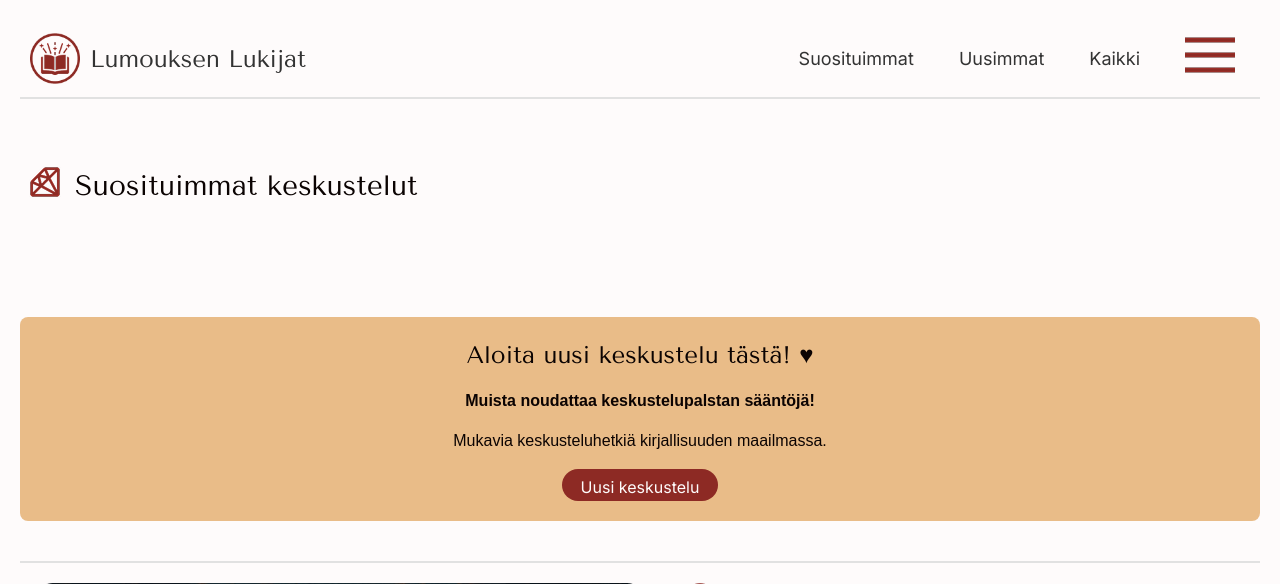
Homepage-komponentti › näyttää "Meistä" hampurilaisvalikossa, kun valikko avataan
Käytetään alt-tekstiä hampurilaisikonin löytämiseen
What coordinates should you click on to do the following:
click the picture with alt text "valikko"
I would click on:
 (1210, 55)
Its box is [1185,30,1235,80].
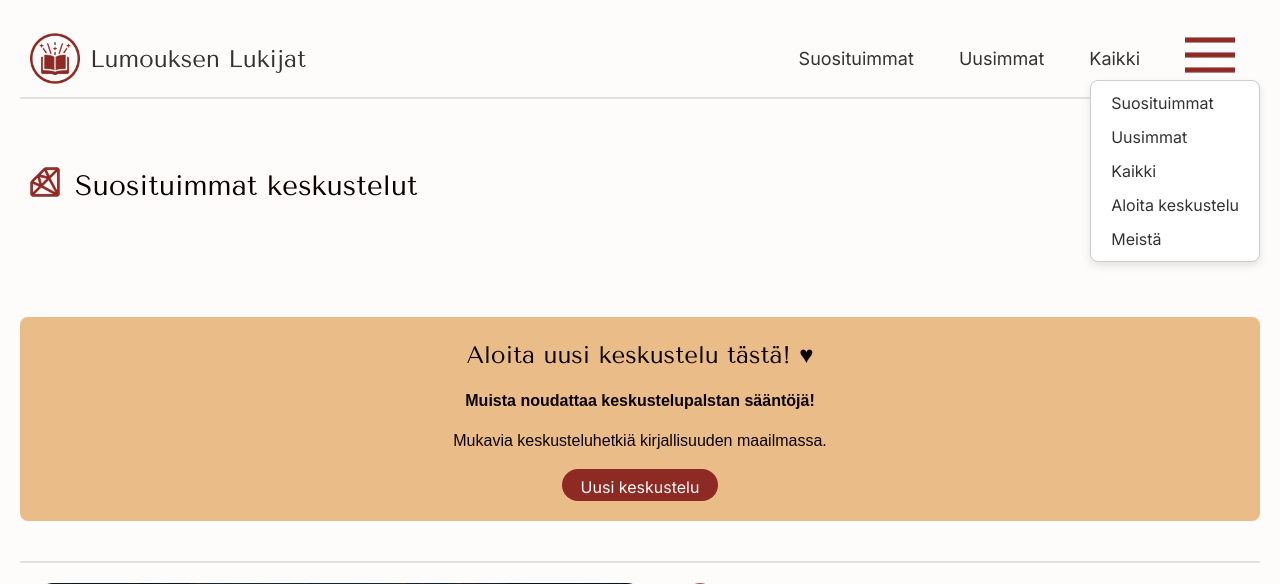
Check: the link "Meistä" is shown, box [1111,229,1162,249]
